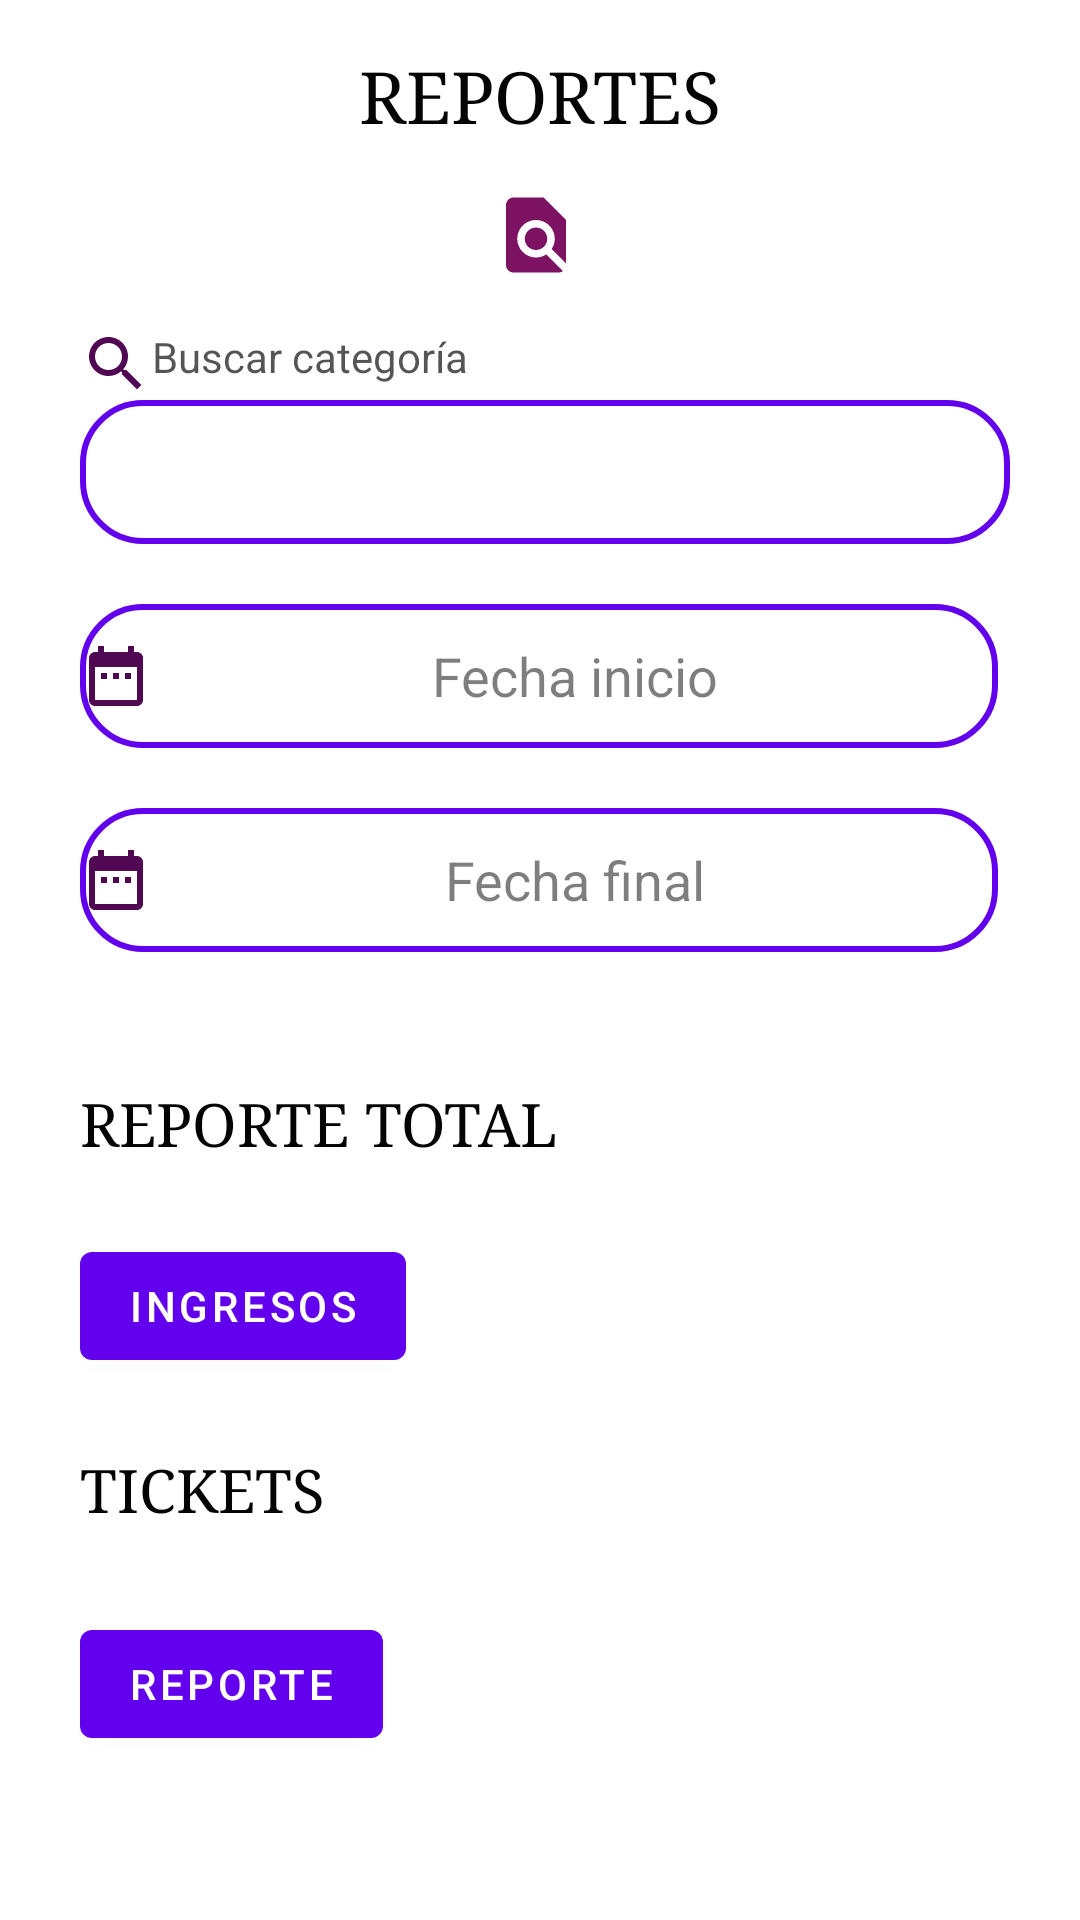

Named icons in this screenshot (1080*1920) and their centers, (x=x, y=y):
find in page: (x=536, y=235)
